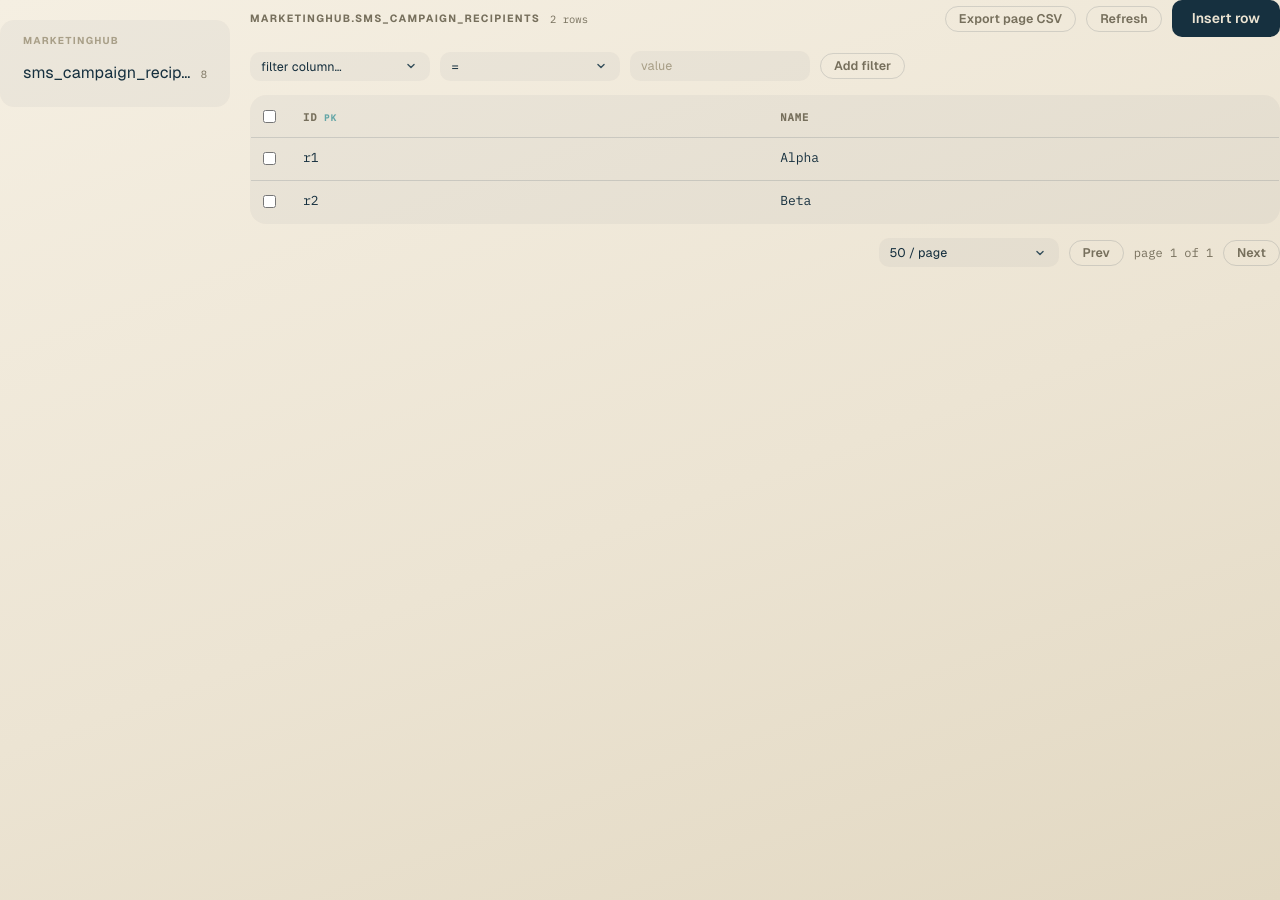
TableEditor › cancelling the sensitive-delete modal deletes nothing
The width and height of the screenshot is (1280, 900).
Expected: the text "Alpha" is shown, [764, 138, 1279, 180]
Click the checkbox named "Select row {\"id\":\"r1\"}" at (270, 158), box [263, 152, 276, 165]
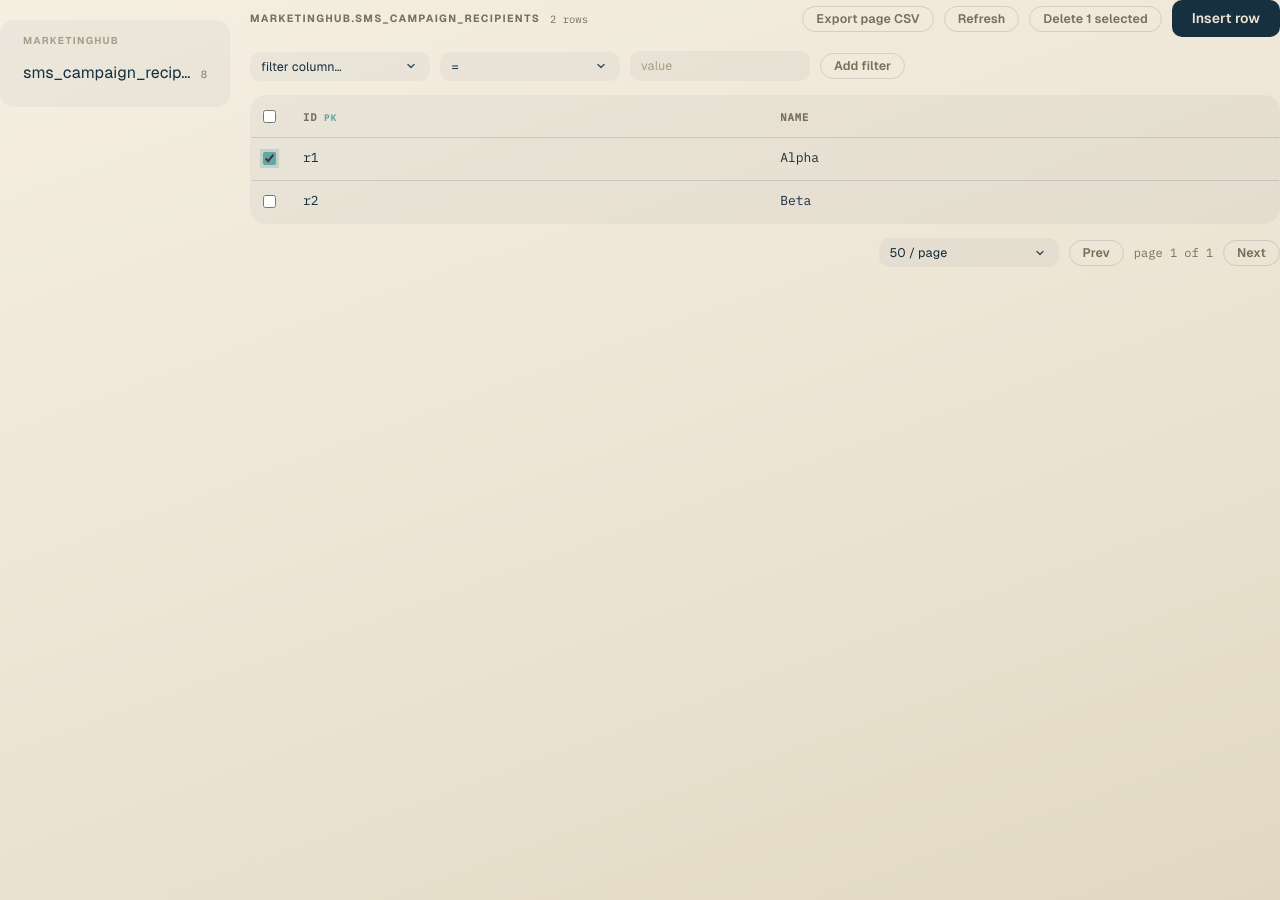
Click the button "Delete 1 selected" at (1096, 18), box [1029, 6, 1162, 32]
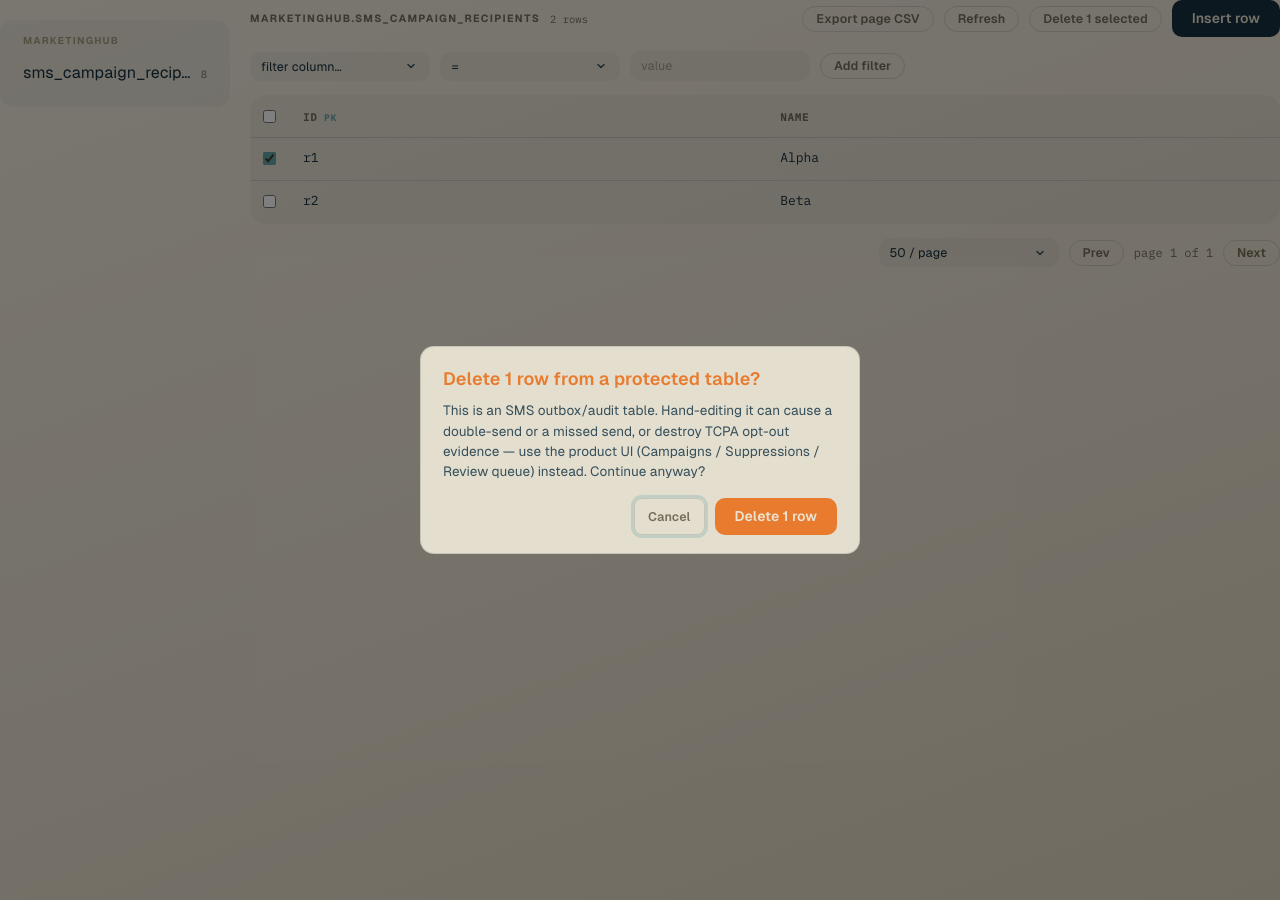
Now the dialog is shown, box [420, 346, 860, 554]
Click the button "Cancel" at (669, 517), box [634, 498, 704, 535]
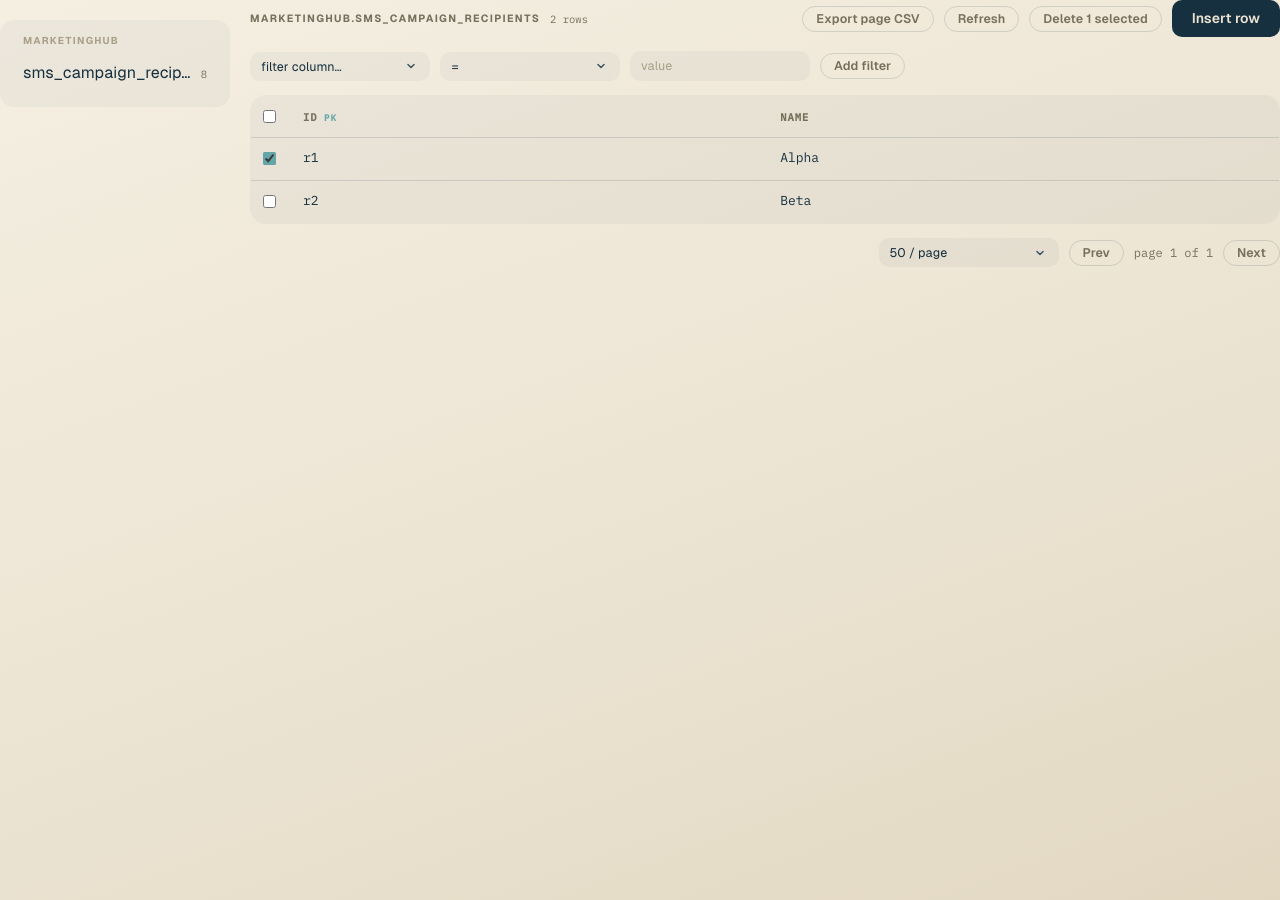
Now the dialog is gone
